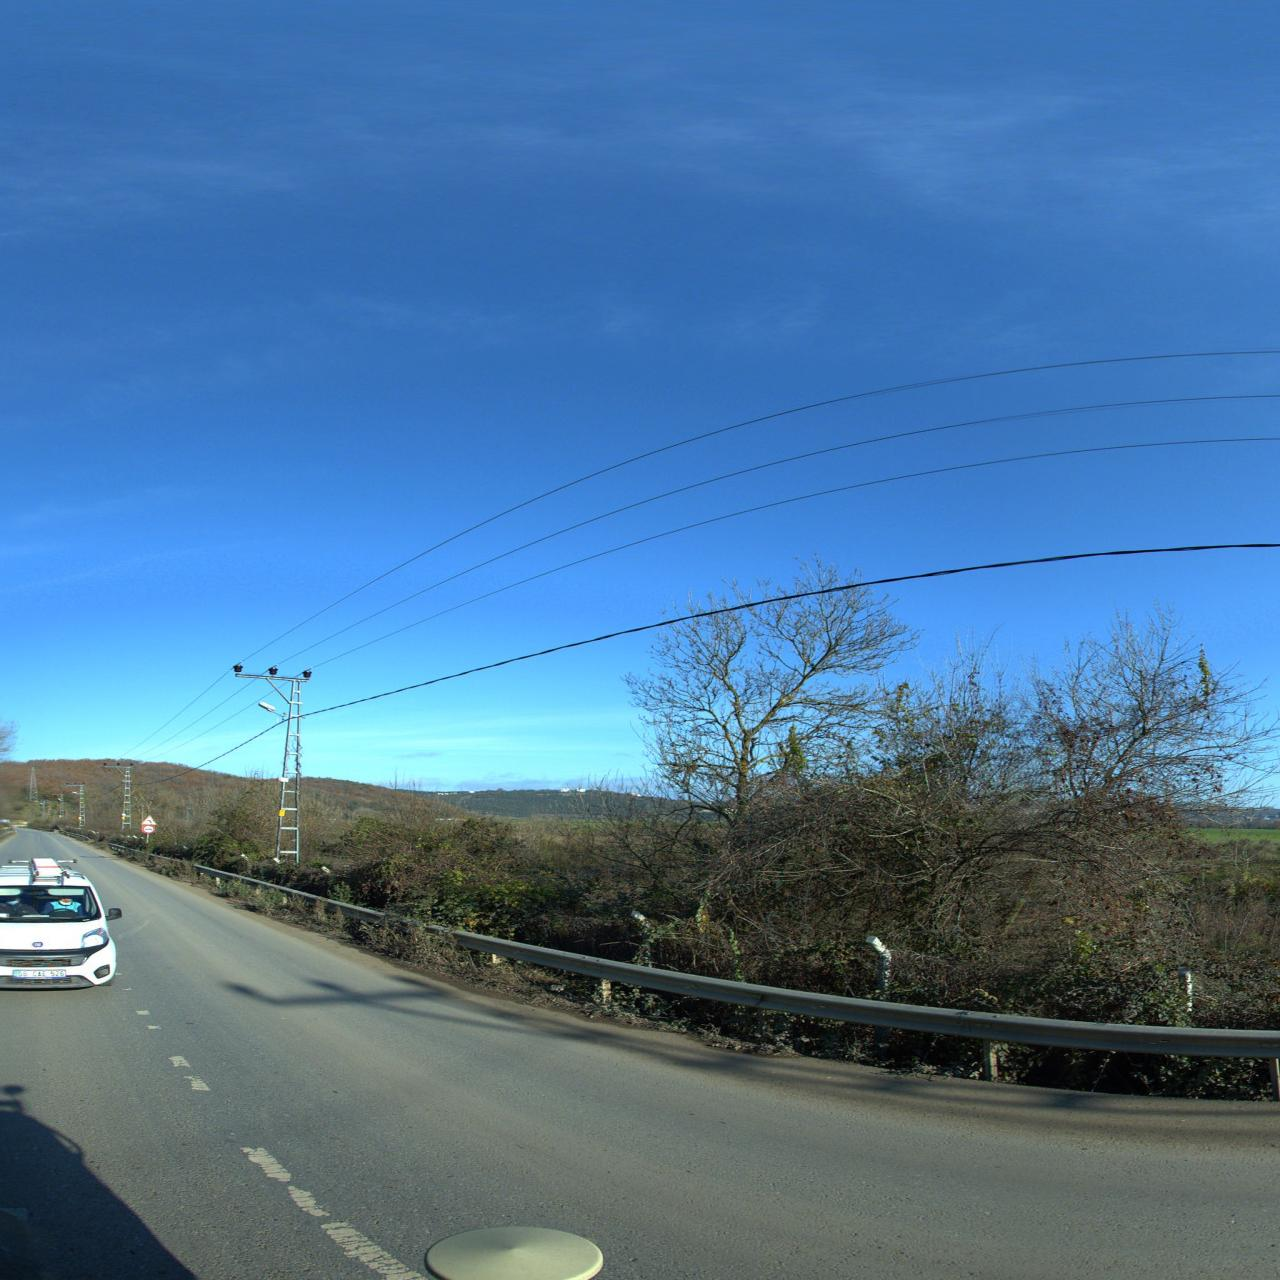Utility Pole Information Plate: (278, 810, 286, 816)
